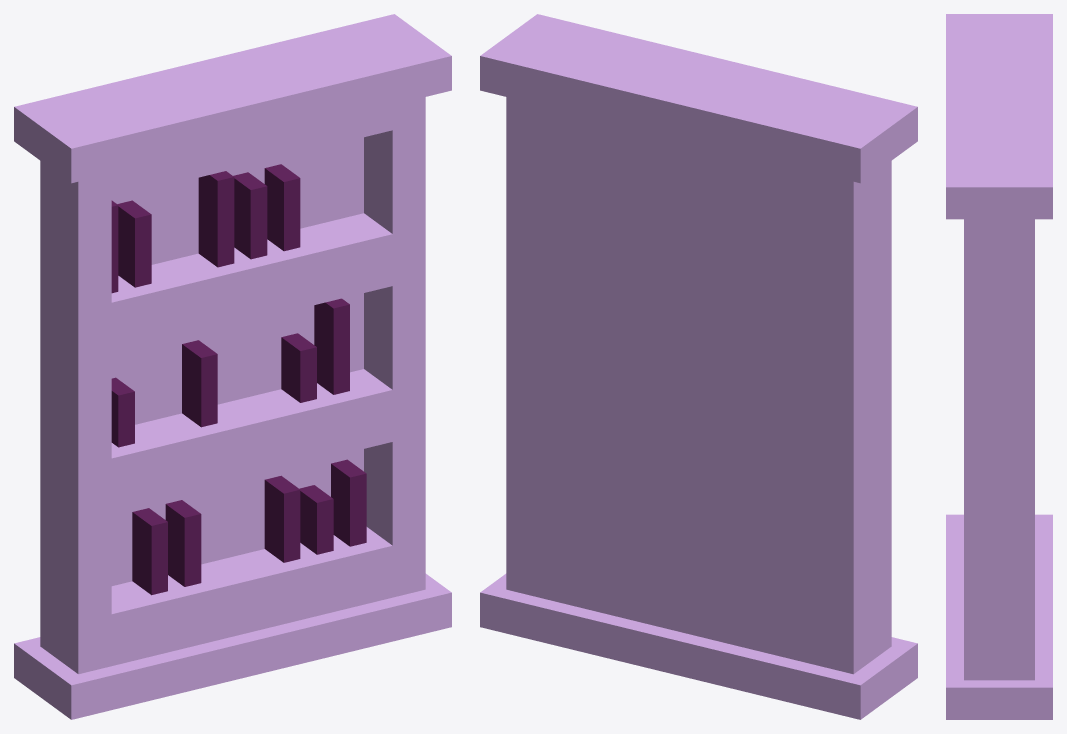
File: Libreria.obj
The picture shows the model from 3 angles, left to right: view 1: azimuth 30°, elevation 25°; view 2: azimuth 150°, elevation 25°; view 3: azimuth 270°, elevation 25°; orthographic projection. The views are drawn at different scales.
Bounding box in the file's own units: 2.3 × 3.3 × 0.6.
Materials: 1 (1 with a texture image).
